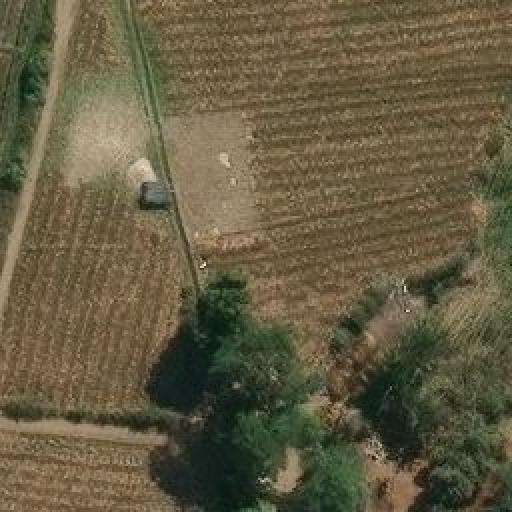manzanas: (124, 155, 169, 208)
